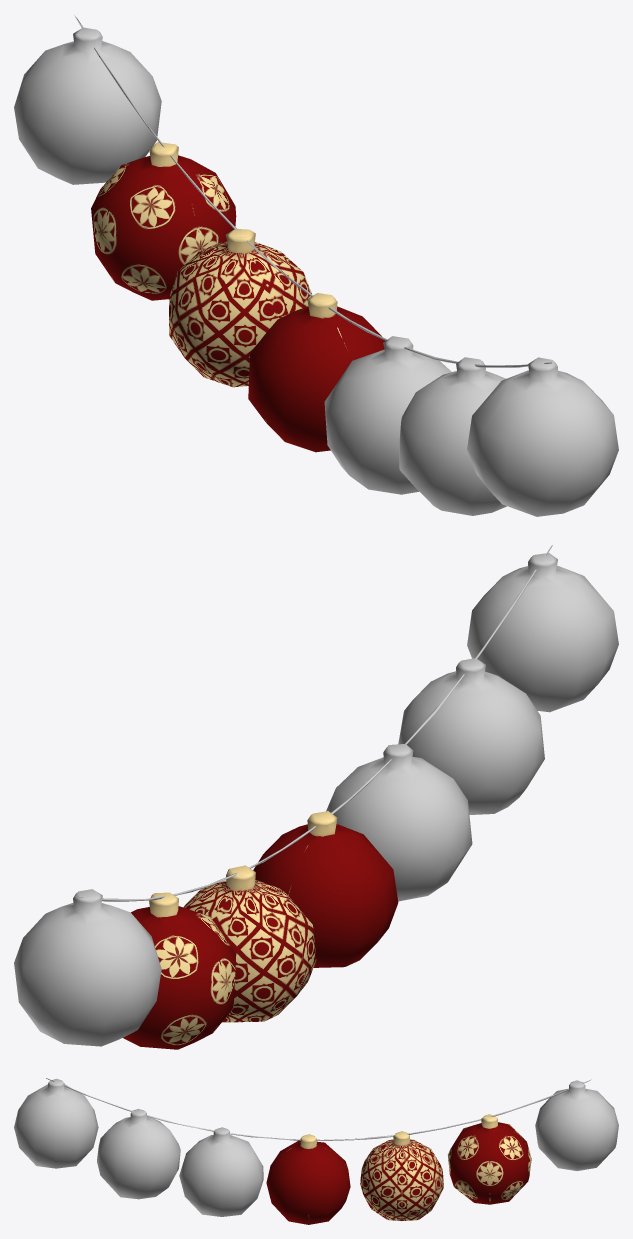
File: SM_wall_decor_line.FBX
3 views of the same model, one above another, from view 1: azimuth 30°, elevation 25°; view 2: azimuth 150°, elevation 25°; view 3: azimuth 270°, elevation 25° (orthographic). The views are drawn at different scales.
Parts seen in each view (by area): view 1: SM_wall_decor_line; view 2: SM_wall_decor_line; view 3: SM_wall_decor_line.
Boxes of the visible parts, x1=… form: SM_wall_decor_line: x1=14, y1=15, x2=618, y2=516; SM_wall_decor_line: x1=14, y1=545, x2=618, y2=1049; SM_wall_decor_line: x1=14, y1=1078, x2=618, y2=1224.
Size of the model in its own units: 13.95 by 99.69 by 25.91.
